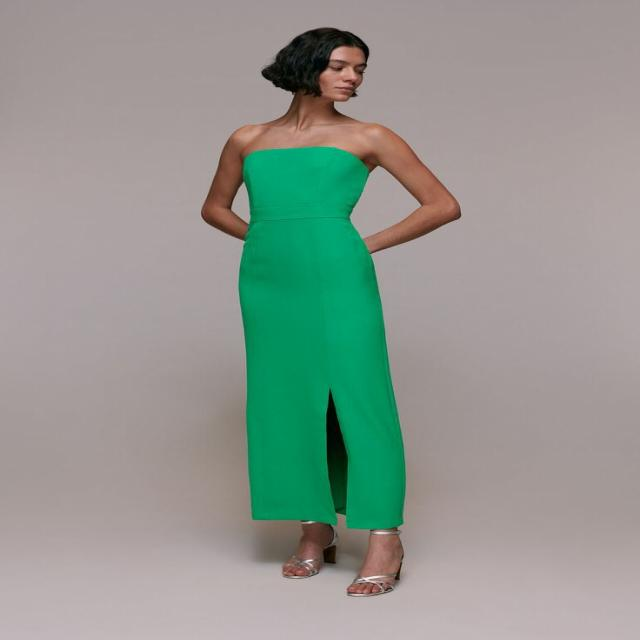female-dress: (235, 143, 407, 530)
